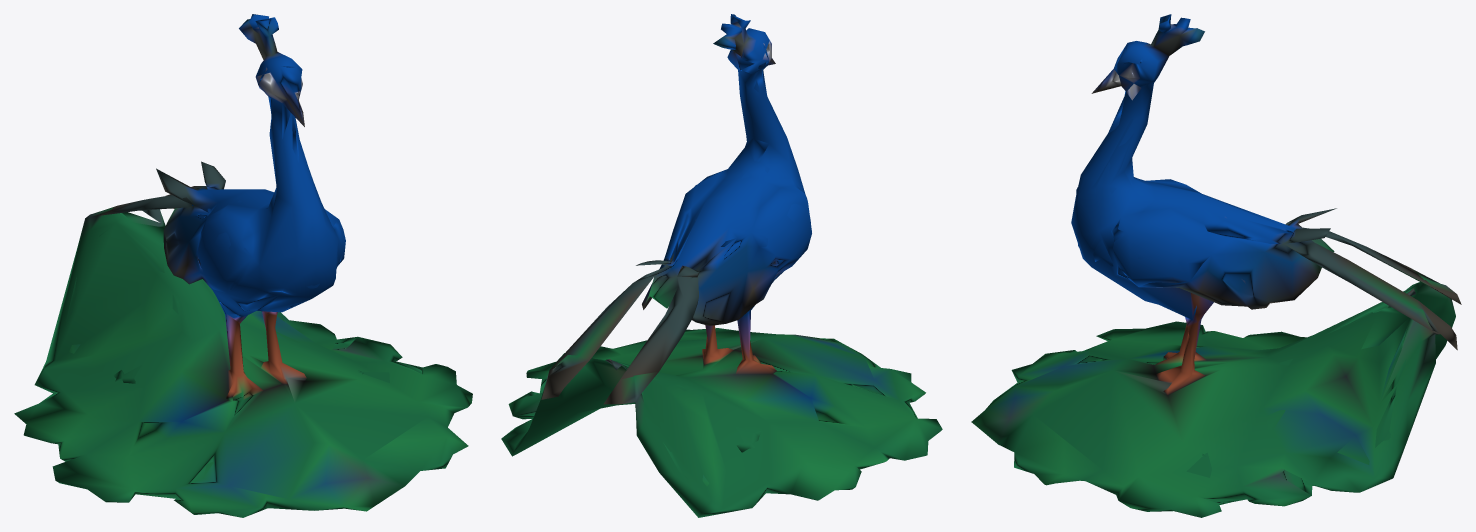
The model's file is gen3d-peacock-lod1.glb.
3 views of the same model, side by side, from view 1: azimuth 30°, elevation 25°; view 2: azimuth 150°, elevation 25°; view 3: azimuth 270°, elevation 25° (orthographic). The views are drawn at different scales.
Parts seen in each view (by area): view 1: part_0; view 2: part_0; view 3: part_0.
Part boxes in pixels (left/top/right/bottom): part_0: left=14, top=14, right=472, bottom=517; part_0: left=501, top=14, right=942, bottom=517; part_0: left=971, top=14, right=1461, bottom=517.
Size of the model in its own units: 1.03 by 0.9907 by 1.09.
